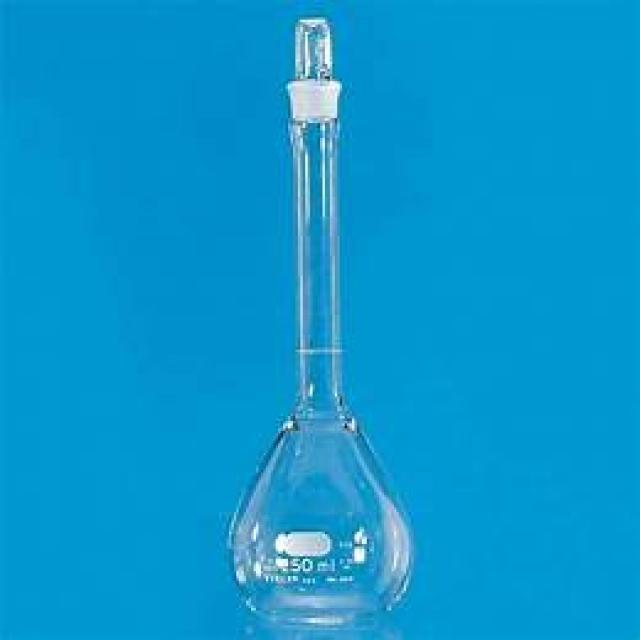Volumetric flask: (231, 12, 419, 631)
